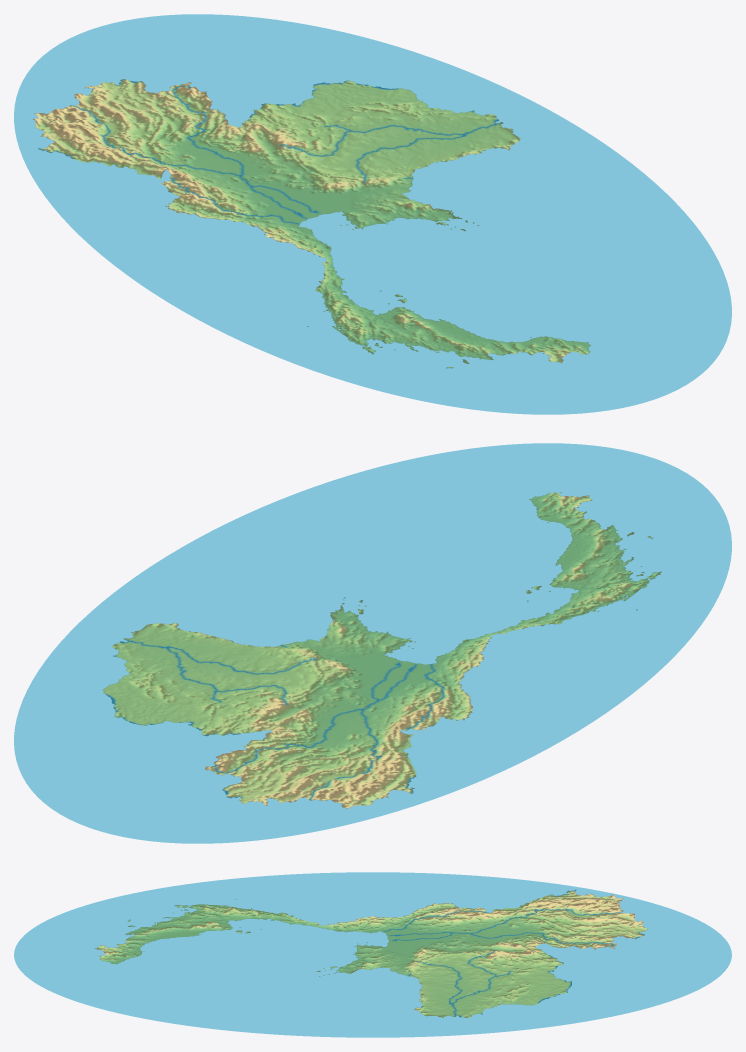
Rendered from THA-terrain.glb.
3 views of the same model, one above another, from view 1: azimuth 30°, elevation 25°; view 2: azimuth 150°, elevation 25°; view 3: azimuth 270°, elevation 25° (orthographic). The views are drawn at different scales.
Parts seen in each view (by area): view 1: Relevo com hidrografia; view 2: Relevo com hidrografia; view 3: Relevo com hidrografia.
Boxes of the visible parts, box(x1,y1,x2,y2) form: Relevo com hidrografia: box(14, 14, 731, 414); Relevo com hidrografia: box(14, 443, 731, 843); Relevo com hidrografia: box(14, 872, 731, 1037).
Size of the model in its own units: 1.14 by 0.0188 by 2.09.
2 materials, 1 textured.
